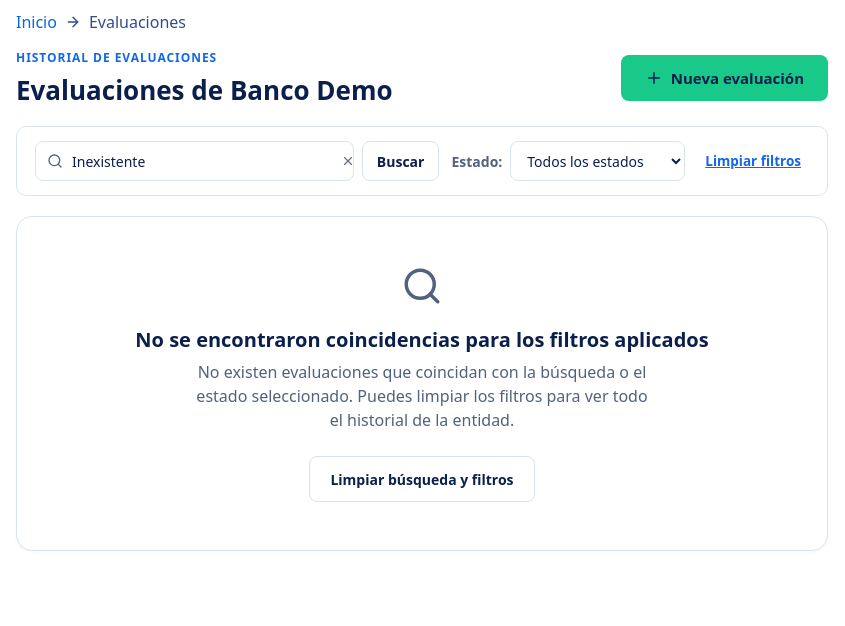
Test case: HU-18 EvaluationsList — Consultar historial y estados de evaluaciones › PA-18.02 & CA-18.03: distinguishes search with no matches and provides a button to clear filters without forcing creation
The width and height of the screenshot is (845, 626).
Check: the heading "No se encontraron coincidencias para los filtros aplicados" is shown, box [135,326,709,353]
Click the button "Limpiar búsqueda y filtros". click: (422, 479)
box: [309,456,535,502]
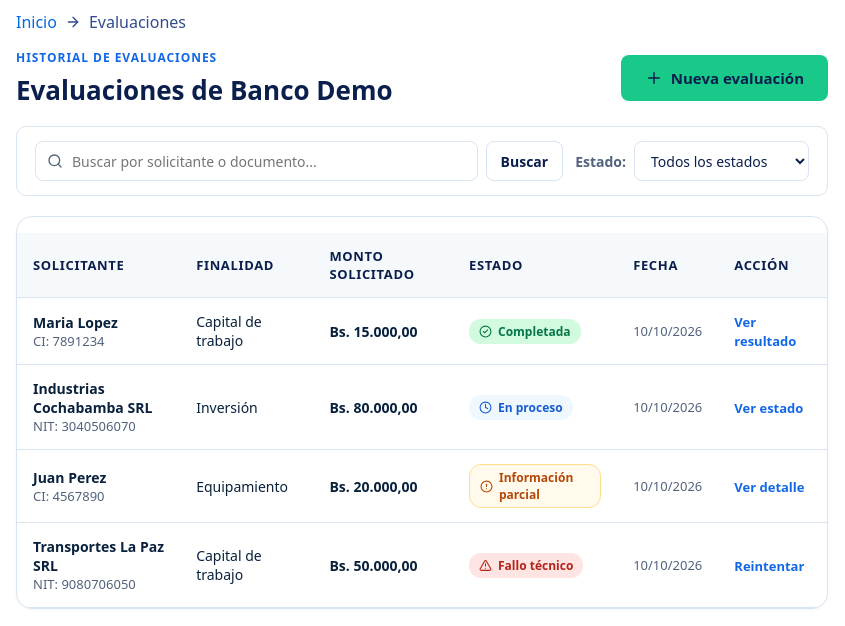
Check: the text "Maria Lopez" is shown, box [33,313,118,332]
